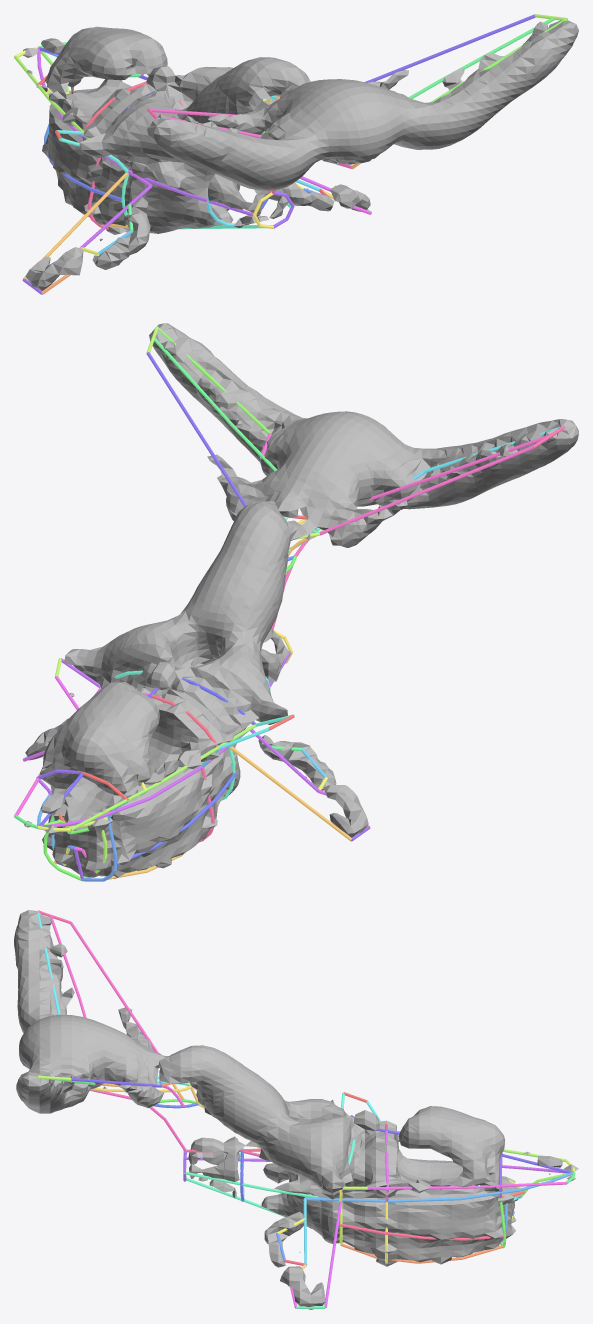
File: ils_spacecraft_29.gltf
3 views of the same model, one above another, from view 1: azimuth 30°, elevation 25°; view 2: azimuth 150°, elevation 25°; view 3: azimuth 270°, elevation 25° (orthographic). The views are drawn at different scales.
Bounding box in the file's own units: 0.5629 × 0.4005 × 0.7806.
